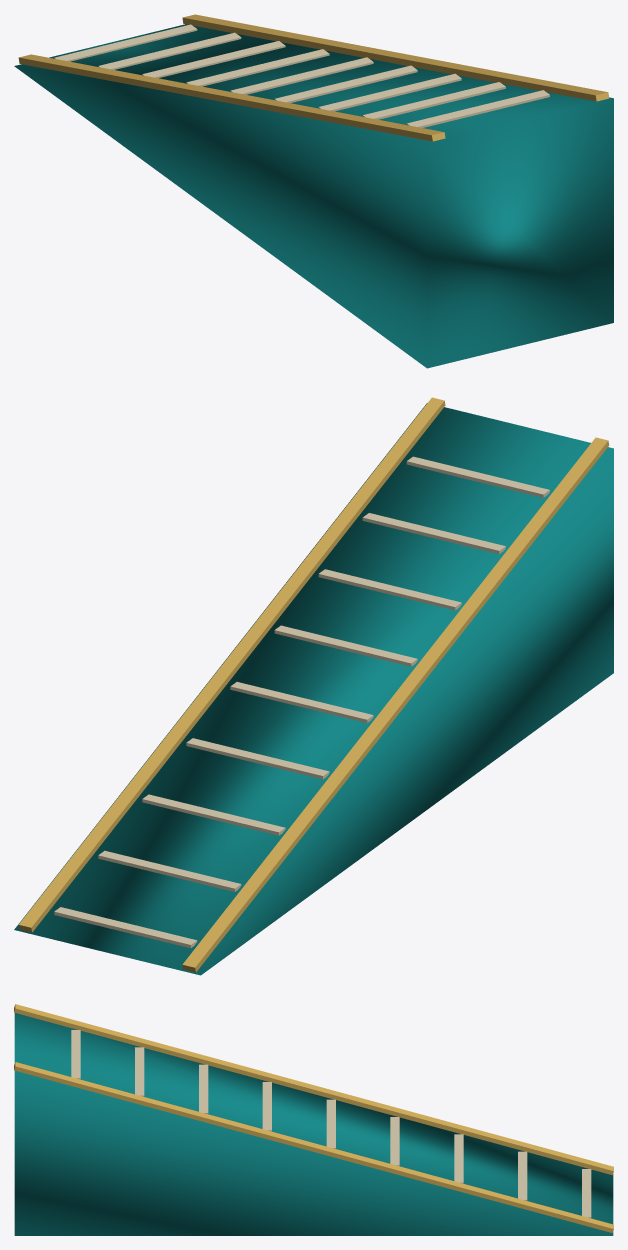
Rendered from ramp.glb.
3 views of the same model, one above another, from view 1: azimuth 30°, elevation 25°; view 2: azimuth 150°, elevation 25°; view 3: azimuth 270°, elevation 25° (orthographic). The views are drawn at different scales.
Parts seen in each view (by area): view 1: item-ramp; view 2: item-ramp; view 3: item-ramp.
Part boxes in pixels (box(x1,y1,x2,y2)): item-ramp: box(14, 14, 613, 368); item-ramp: box(14, 397, 613, 975); item-ramp: box(14, 1004, 613, 1235).
Bounding box in the file's own units: 2.35 × 2.78 × 9.02.
